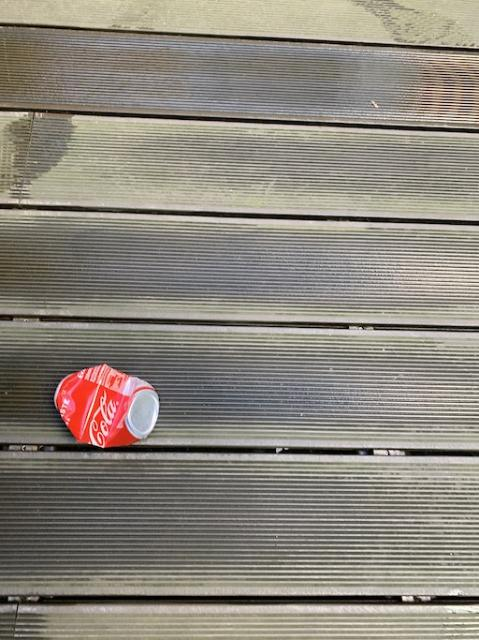metal: (54, 365, 159, 447)
